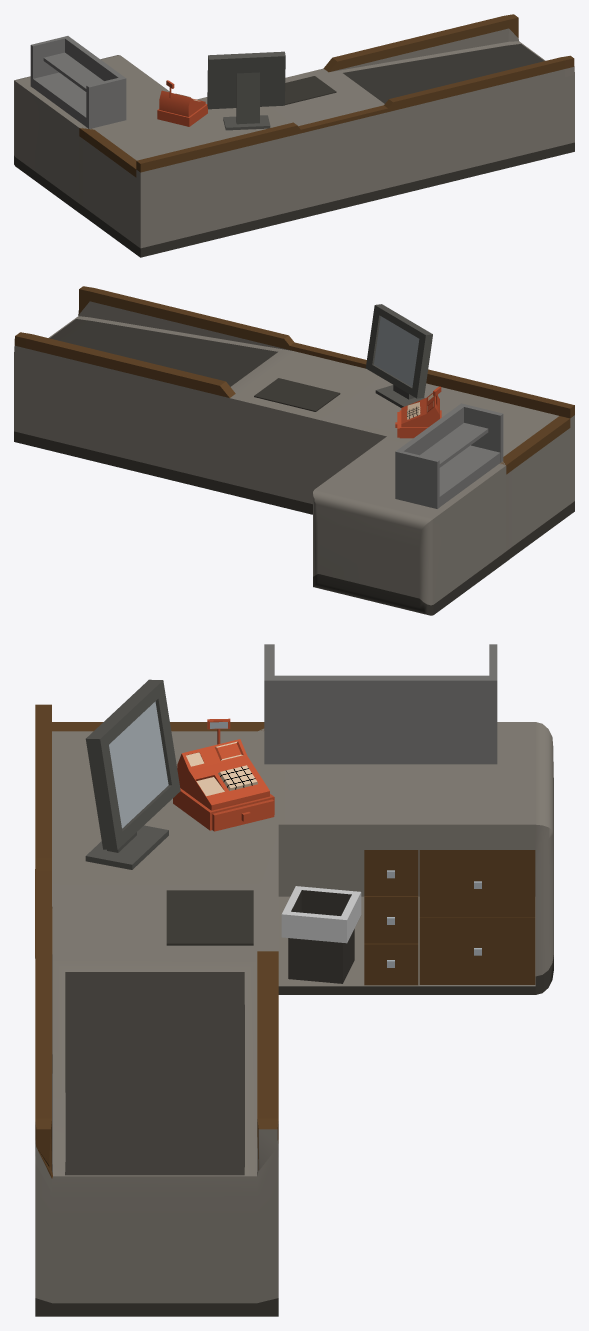
Rendered from Counter.fbx.
The picture shows the model from 3 angles, top to bottom: view 1: azimuth 30°, elevation 25°; view 2: azimuth 150°, elevation 25°; view 3: azimuth 270°, elevation 25°; orthographic projection. The views are drawn at different scales.
Visible parts, largest first — view 1: pCube1, pCube14, polySurface10, pCube40, pCube16; view 2: pCube1, pCube14, polySurface10, pCube16, pCube40; view 3: pCube1, pCube14, polySurface10, pCube38, pCube37, pCube40, pCube32, pCube16, pCube35, pCube34, pCube36.
Boxes of the visible parts, x1,y1,x2,y2 form: pCube1: (14, 14, 574, 257); pCube14: (30, 36, 126, 128); polySurface10: (207, 51, 285, 130); pCube40: (157, 80, 207, 126); pCube16: (285, 76, 336, 104); pCube1: (14, 286, 574, 615); pCube14: (395, 403, 503, 508); polySurface10: (365, 304, 432, 407); pCube16: (254, 378, 340, 411); pCube40: (395, 386, 441, 438); pCube1: (35, 704, 553, 1316); pCube14: (264, 644, 497, 764); polySurface10: (85, 679, 180, 869); pCube38: (419, 917, 535, 984); pCube37: (419, 850, 535, 916); pCube40: (173, 718, 274, 831); pCube32: (281, 886, 361, 983); pCube16: (166, 890, 253, 945); pCube35: (364, 896, 418, 943); pCube34: (364, 850, 418, 896); pCube36: (364, 943, 418, 985).
Bounding box in the file's own units: 7.75 × 2.64 × 4.01.
Materials: 2 (2 with a texture image).
